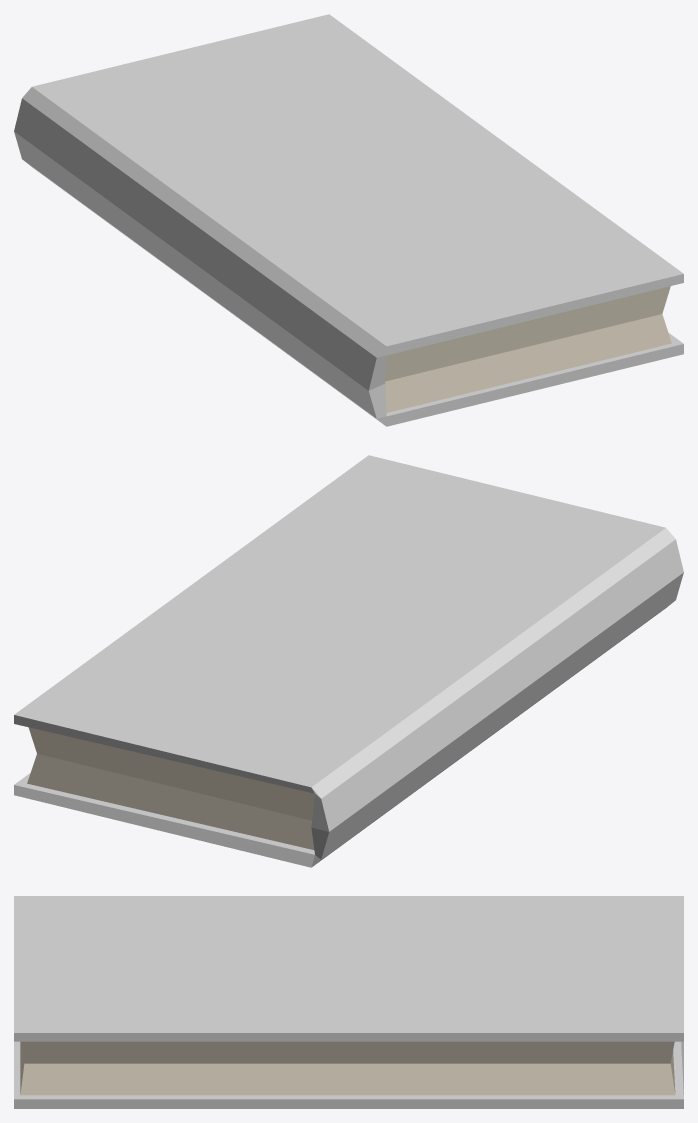
File: Book.fbx
3 views of the same model, one above another, from view 1: azimuth 30°, elevation 25°; view 2: azimuth 150°, elevation 25°; view 3: azimuth 270°, elevation 25° (orthographic). The views are drawn at different scales.
Visible parts, largest first — view 1: Book; view 2: Book; view 3: Book.
Boxes of the visible parts, box(x1,y1,x2,y2) form: Book: box(14, 14, 683, 426); Book: box(14, 455, 683, 867); Book: box(14, 896, 683, 1108).
Bounding box in the file's own units: 410 × 100 × 800.
